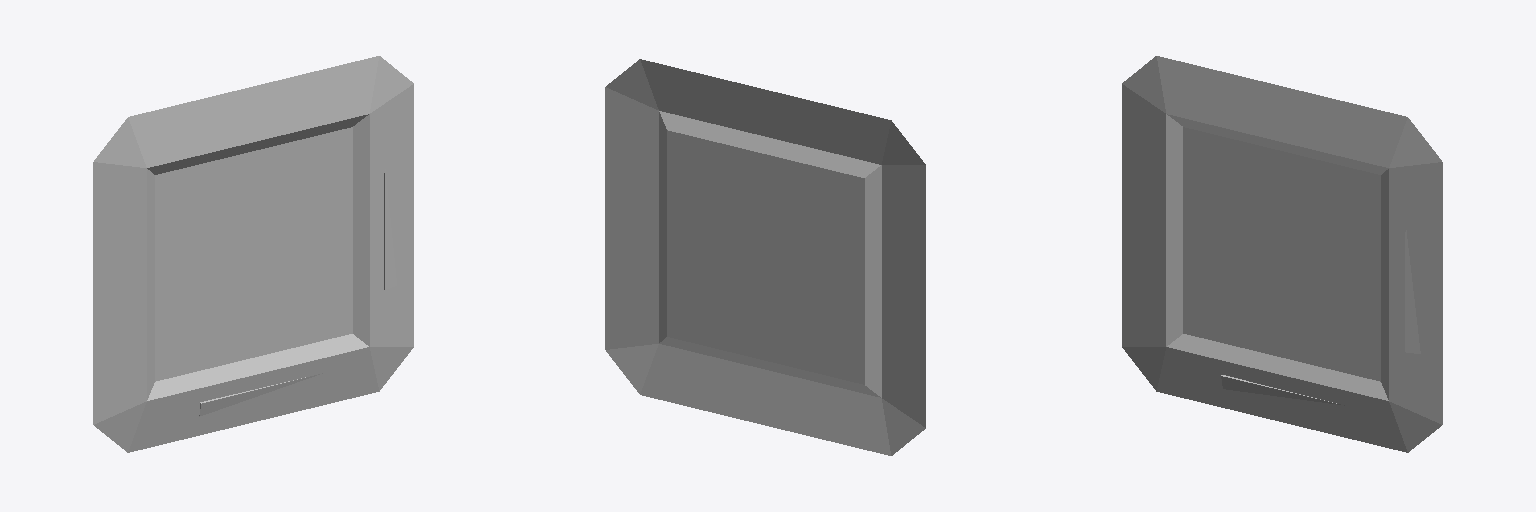
The model's file is upgradeSlot.obj.
The picture shows the model from 3 angles: view 1: azimuth 30°, elevation 25°; view 2: azimuth 150°, elevation 25°; view 3: azimuth 330°, elevation 25°; orthographic projection.
Parts seen in each view (by area): view 1: Object.1; view 2: Object.1; view 3: Object.1.
Boxes of the visible parts, <box> form: Object.1: <box>93,56,413,452</box>; Object.1: <box>605,59,925,455</box>; Object.1: <box>1122,56,1442,452</box>.
Bounding box in the file's own units: 41.67 × 41.67 × 1.02.